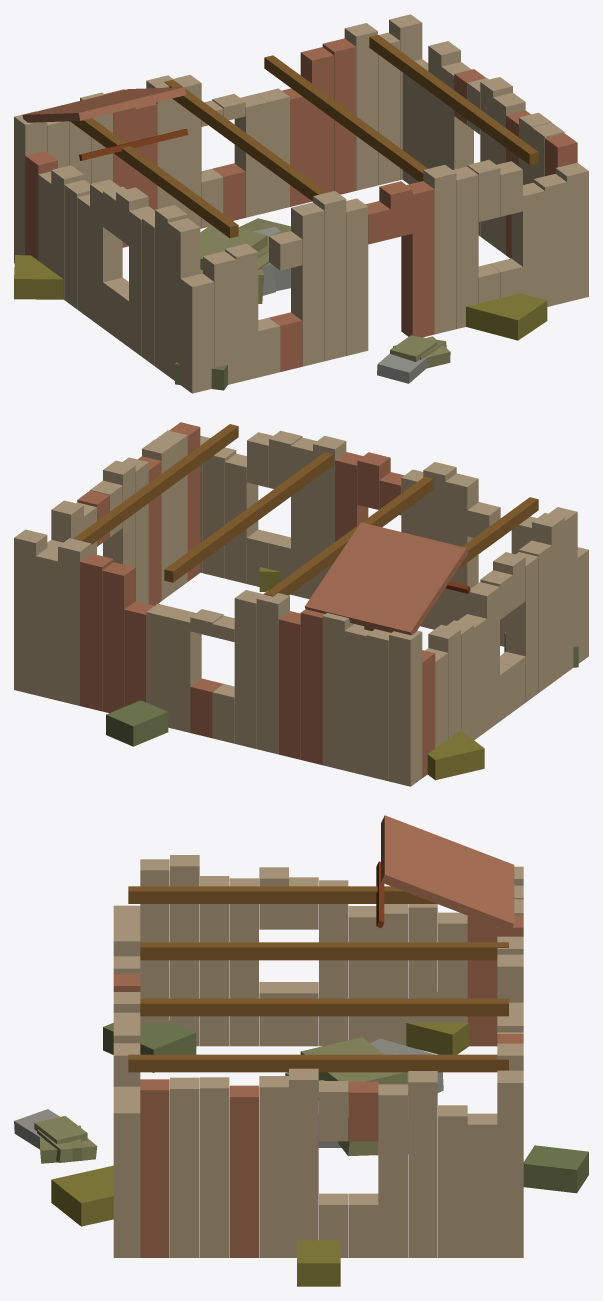
The model's file is SM_CasaRuina_v0_SinTejado_LOD0.fbx.
3 views of the same model, one above another, from view 1: azimuth 30°, elevation 25°; view 2: azimuth 150°, elevation 25°; view 3: azimuth 270°, elevation 25° (orthographic). The views are drawn at different scales.
Parts seen in each view (by area): view 1: SM_casa_ruina_v0_LOD0; view 2: SM_casa_ruina_v0_LOD0; view 3: SM_casa_ruina_v0_LOD0.
Boxes of the visible parts, x1=… form: SM_casa_ruina_v0_LOD0: x1=14, y1=14, x2=588, y2=393; SM_casa_ruina_v0_LOD0: x1=14, y1=422, x2=588, y2=786; SM_casa_ruina_v0_LOD0: x1=14, y1=815, x2=588, y2=1286.
Size of the model in its own units: 11 by 4.27 by 9.82.
